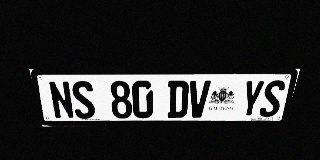0: (131, 81, 153, 118)
8: (109, 81, 132, 118)
D: (167, 80, 189, 118)
N: (47, 81, 75, 119)
S: (258, 80, 287, 117), (70, 81, 96, 119)
V: (187, 80, 211, 118)
Y: (239, 80, 265, 117)
